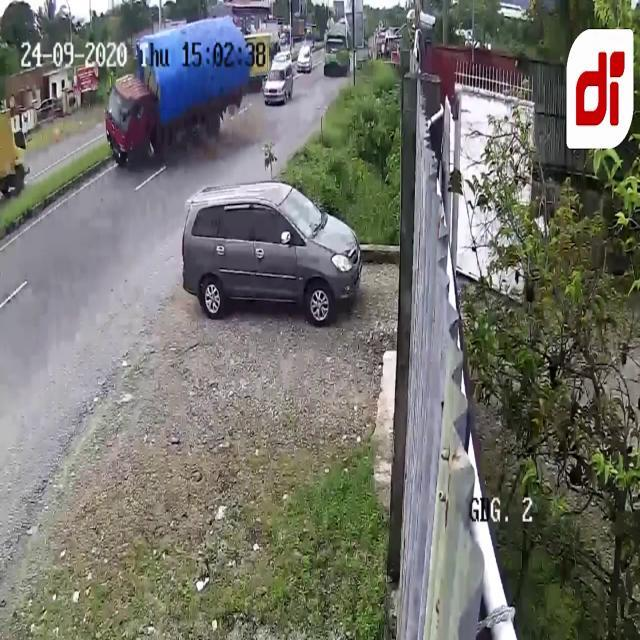single accident: (62, 17, 304, 170)
